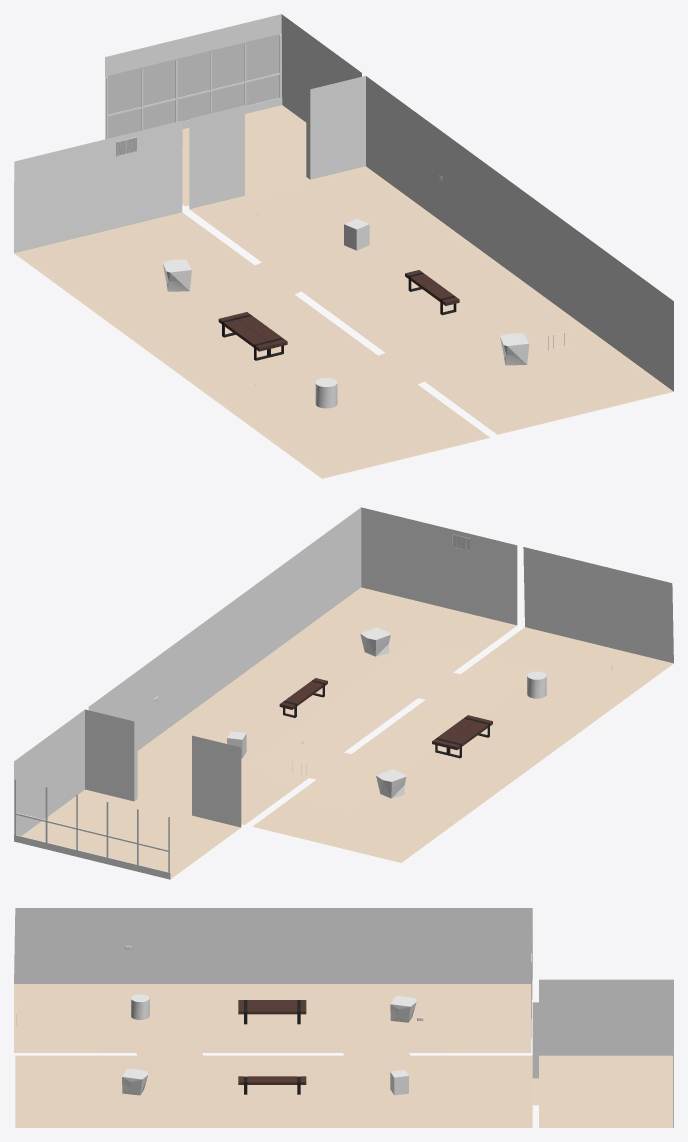
File: gallery.gltf
3 renders of one model, top to bottom at view 1: azimuth 30°, elevation 25°; view 2: azimuth 150°, elevation 25°; view 3: azimuth 270°, elevation 25°, orthographic. The views are drawn at different scales.
Visible parts, largest first — view 1: Cube.001-floormat, Cube.001-ceilingmat.001, Cube.007, Cube.005, Cube.014, Cube.012, Plane.002-woodmat, Plane.003-woodmat, Cube.011; view 2: Cube.001-floormat, Cube.001-ceilingmat.001, Cube.005, Cube.014, Cube.012, Plane.003-woodmat, Plane.002-woodmat; view 3: Cube.001-floormat, Cube.001-ceilingmat.001, Cube.014, Cube.012, Plane.003-woodmat, Plane.001-woodmat, Cube.015, Cube.011, Plane.002-woodmat.
Part boxes in pixels (bbox=[...]): Cube.001-floormat: bbox=[14, 105, 673, 478]; Cube.001-ceilingmat.001: bbox=[14, 14, 673, 391]; Cube.007: bbox=[107, 34, 279, 138]; Cube.005: bbox=[105, 35, 282, 138]; Cube.014: bbox=[162, 259, 191, 291]; Cube.012: bbox=[500, 333, 529, 365]; Plane.002-woodmat: bbox=[218, 315, 273, 351]; Plane.003-woodmat: bbox=[405, 270, 459, 305]; Cube.011: bbox=[344, 218, 369, 250]; Cube.001-floormat: bbox=[21, 587, 673, 878]; Cube.001-ceilingmat.001: bbox=[14, 507, 673, 835]; Cube.005: bbox=[14, 779, 170, 879]; Cube.014: bbox=[376, 769, 406, 798]; Cube.012: bbox=[360, 627, 390, 656]; Plane.003-woodmat: bbox=[279, 678, 327, 709]; Plane.002-woodmat: bbox=[444, 718, 492, 749]; Cube.001-floormat: bbox=[14, 984, 672, 1127]; Cube.001-ceilingmat.001: bbox=[14, 908, 673, 1078]; Cube.014: bbox=[390, 995, 416, 1022]; Cube.012: bbox=[122, 1068, 147, 1095]; Plane.003-woodmat: bbox=[238, 1076, 306, 1084]; Plane.001-woodmat: bbox=[238, 1006, 306, 1014]; Cube.015: bbox=[131, 994, 149, 1019]; Cube.011: bbox=[390, 1069, 408, 1095]; Plane.002-woodmat: bbox=[238, 1000, 306, 1005].
Size of the model in its own units: 2416 by 596 by 4666.
